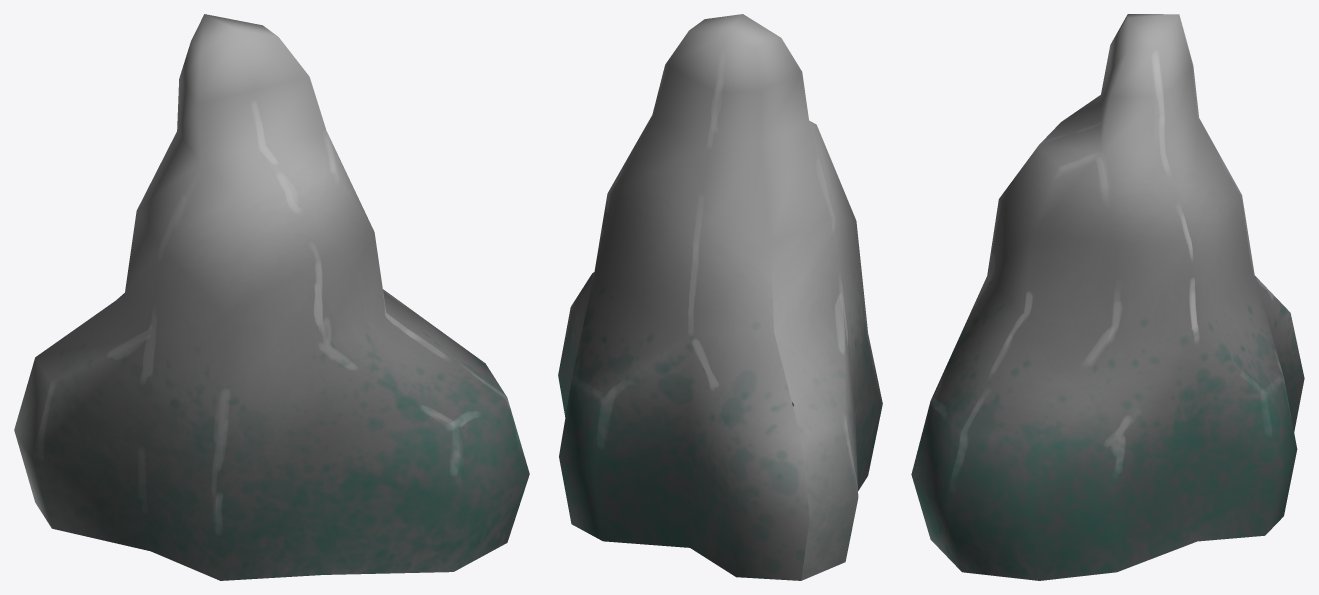
The model's file is Rock.fbx.
The picture shows the model from 3 angles, left to right: view 1: azimuth 30°, elevation 25°; view 2: azimuth 150°, elevation 25°; view 3: azimuth 270°, elevation 25°; orthographic projection. The views are drawn at different scales.
Visible parts, largest first — view 1: Plane; view 2: Plane; view 3: Plane.
Part boxes in pixels (bbox=[...]): Plane: bbox=[14, 14, 529, 580]; Plane: bbox=[558, 14, 882, 580]; Plane: bbox=[911, 14, 1304, 580].
Size of the model in its own units: 1949 by 2426 by 1840.
